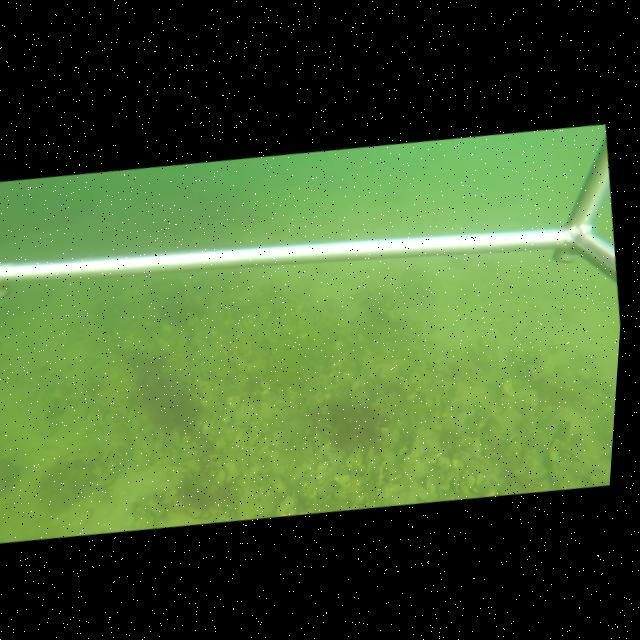Oyster-Closed: (374, 458, 388, 499)
Oyster-Open: (366, 373, 379, 402)
